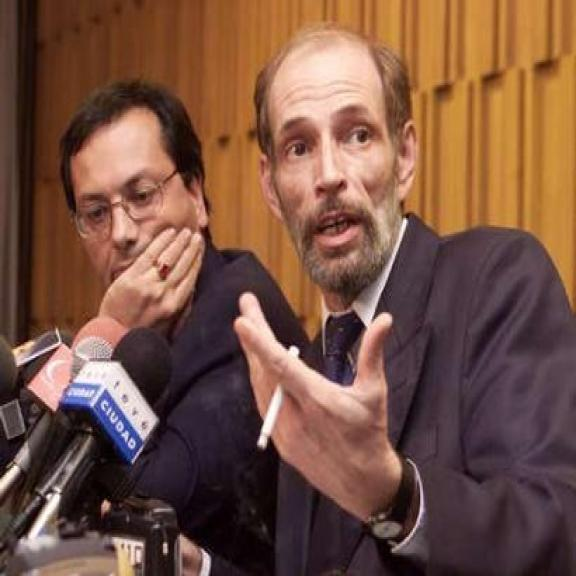face: (254, 64, 425, 280), (68, 134, 212, 295)
